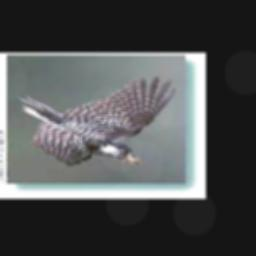Woodpecker: (20, 72, 183, 170)
